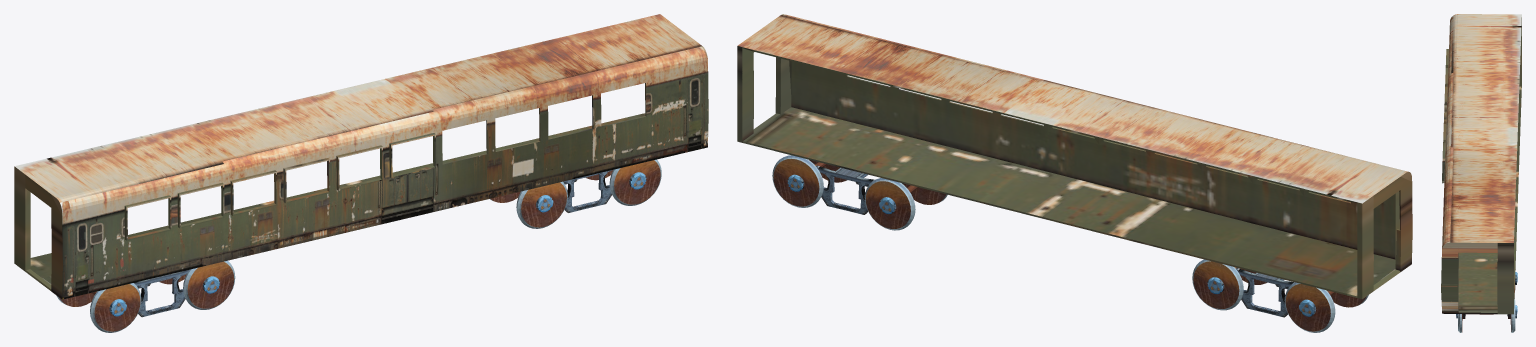
Rendered from WagonCorrupted.fbx.
The picture shows the model from 3 angles, left to right: view 1: azimuth 30°, elevation 25°; view 2: azimuth 150°, elevation 25°; view 3: azimuth 270°, elevation 25°; orthographic projection. The views are drawn at different scales.
Parts seen in each view (by area): view 1: Train, Wheels.001, Wheels; view 2: Train, Wheels, Wheels.001; view 3: Train, Wheels.
Part boxes in pixels (x1,y1,x2,y2): Train: (14,14,708,299); Wheels.001: (56,260,235,332); Wheels: (490,159,661,228); Train: (737,14,1412,299); Wheels: (772,155,947,230); Wheels.001: (1192,259,1368,332); Train: (1441,14,1521,314); Wheels: (1456,272,1517,332).
Bounding box in the file's own units: 359 × 537 × 2407.
